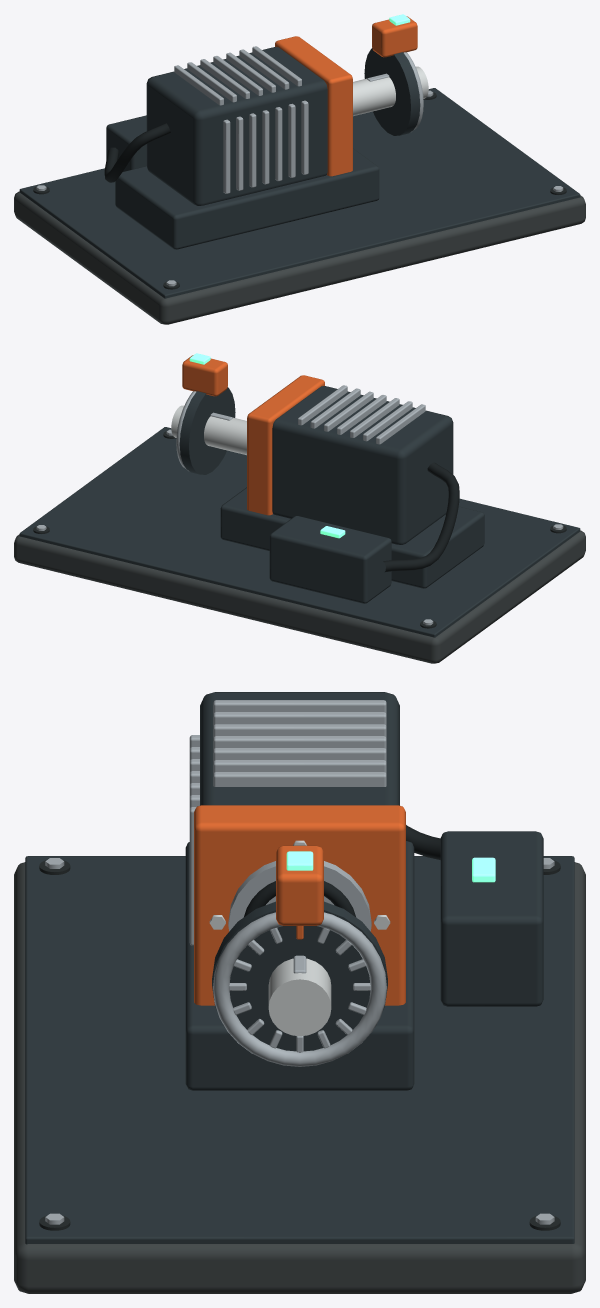
Rendered from servo-calibration.glb.
3 renders of one model, top to bottom at view 1: azimuth 30°, elevation 25°; view 2: azimuth 150°, elevation 25°; view 3: azimuth 270°, elevation 25°, orthographic. The views are drawn at different scales.
Visible parts, largest first — view 1: Machined_top_2, Servo_motor_casting_12, Base_plate_1, Motor_foot_11, Output_flange_27, Encoder_wheel_37, Motor_drive_shaft_35, Encoder_sensor_bracket_55, Servo_drive_module_57, Power_and_feedback_cable_59, Cooling_fin_front_18, Cooling_fin_front_20 (+12 smaller); view 2: Machined_top_2, Servo_motor_casting_12, Base_plate_1, Servo_drive_module_57, Motor_foot_11, Output_flange_27, Encoder_wheel_37, Power_and_feedback_cable_59, Motor_drive_shaft_35, Encoder_sensor_bracket_55, Cooling_fin_23, Cooling_fin_13 (+5 smaller); view 3: Machined_top_2, Base_plate_1, Output_flange_27, Servo_drive_module_57, Motor_foot_11, Encoder_wheel_37, Servo_motor_casting_12, Encoder_disc_rim_38, Motor_drive_shaft_35, Encoder_sensor_bracket_55, Cooling_fin_25, Outer_bearing_32 (+7 smaller).
Boxes of the visible parts, x1,y1,x2,y2 form: Machined_top_2: (19, 88, 580, 298); Servo_motor_casting_12: (146, 47, 327, 205); Base_plate_1: (14, 191, 585, 324); Motor_foot_11: (115, 148, 379, 249); Output_flange_27: (275, 36, 352, 176); Encoder_wheel_37: (364, 48, 420, 135); Motor_drive_shaft_35: (353, 66, 428, 116); Encoder_sensor_bracket_55: (372, 16, 417, 57); Servo_drive_module_57: (106, 115, 146, 171); Power_and_feedback_cable_59: (104, 123, 170, 182); Cooling_fin_front_18: (249, 113, 256, 187); Cooling_fin_front_20: (262, 110, 269, 184); Machined_top_2: (19, 427, 580, 637); Servo_motor_casting_12: (272, 386, 453, 544); Base_plate_1: (14, 530, 585, 663); Servo_drive_module_57: (269, 516, 391, 603); Motor_foot_11: (220, 487, 484, 588); Output_flange_27: (247, 375, 324, 515); Encoder_wheel_37: (179, 387, 235, 474); Power_and_feedback_cable_59: (383, 462, 459, 572); Motor_drive_shaft_35: (171, 405, 246, 455); Encoder_sensor_bracket_55: (182, 355, 227, 396); Cooling_fin_23: (310, 388, 360, 428); Cooling_fin_13: (376, 404, 425, 444); Machined_top_2: (25, 856, 574, 1244); Base_plate_1: (14, 862, 585, 1293); Output_flange_27: (194, 805, 405, 1005); Servo_drive_module_57: (440, 831, 543, 1006); Motor_foot_11: (185, 841, 414, 1090); Encoder_wheel_37: (212, 901, 387, 1051); Servo_motor_casting_12: (200, 692, 399, 805); Encoder_disc_rim_38: (213, 912, 386, 1066); Motor_drive_shaft_35: (268, 958, 331, 1036); Encoder_sensor_bracket_55: (276, 845, 323, 925); Cooling_fin_25: (213, 772, 386, 786); Outer_bearing_32: (228, 861, 371, 931).
Bounding box in the file's own units: 2.27 × 0.912 × 1.4.
